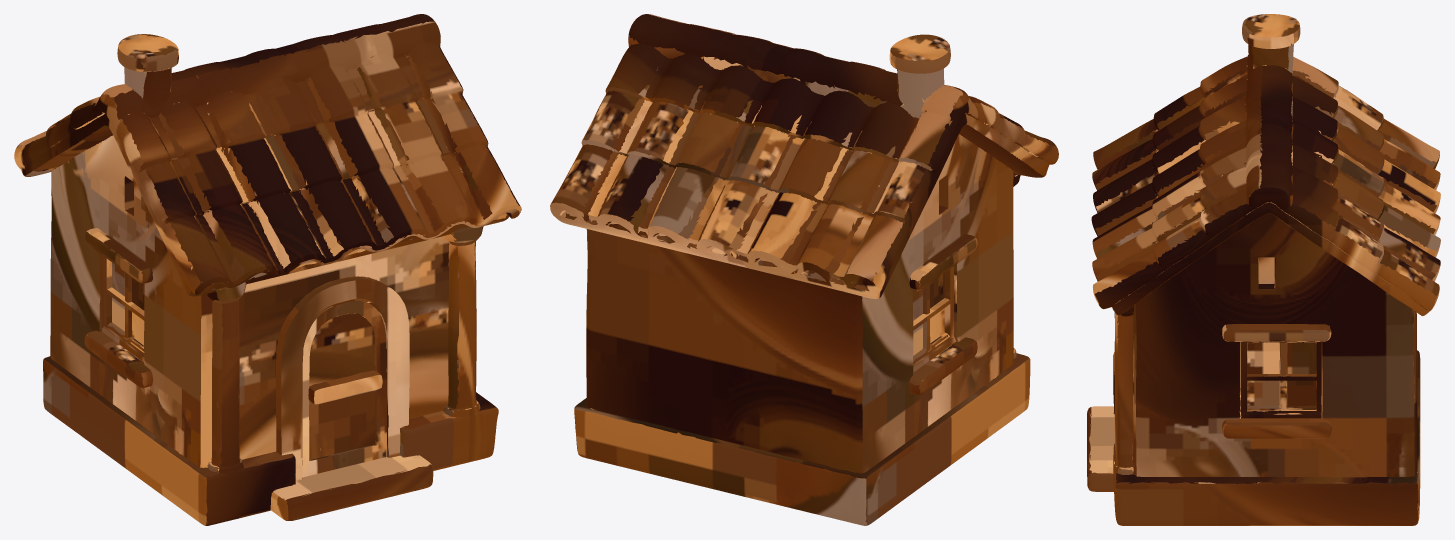
Rendered from Casa2.fbx.
The picture shows the model from 3 angles, left to right: view 1: azimuth 30°, elevation 25°; view 2: azimuth 150°, elevation 25°; view 3: azimuth 270°, elevation 25°; orthographic projection. The views are drawn at different scales.
Visible parts, largest first — view 1: model; view 2: model; view 3: model.
Boxes of the visible parts, x1,y1,x2,y2 form: model: (14, 14, 521, 525); model: (550, 14, 1058, 525); model: (1087, 14, 1440, 525).
Size of the model in its own units: 111 by 134 by 111.
